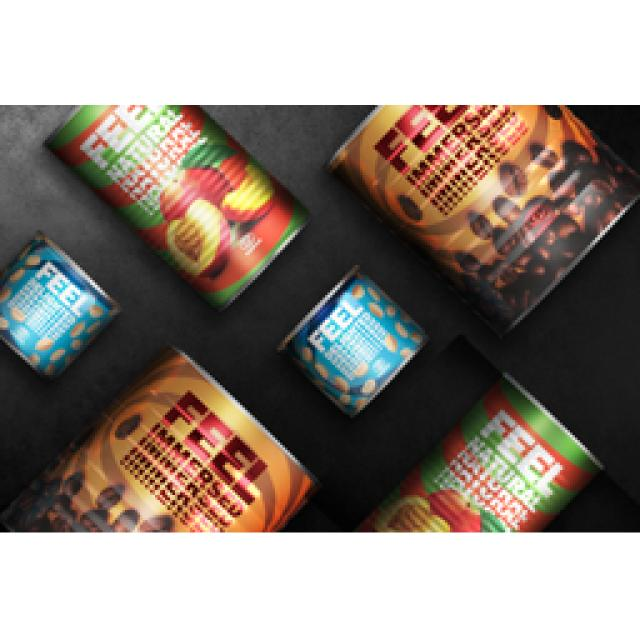alumunium: (330, 105, 638, 325), (2, 348, 312, 530), (50, 105, 305, 302), (360, 378, 598, 530), (280, 270, 422, 412), (0, 235, 120, 372)
